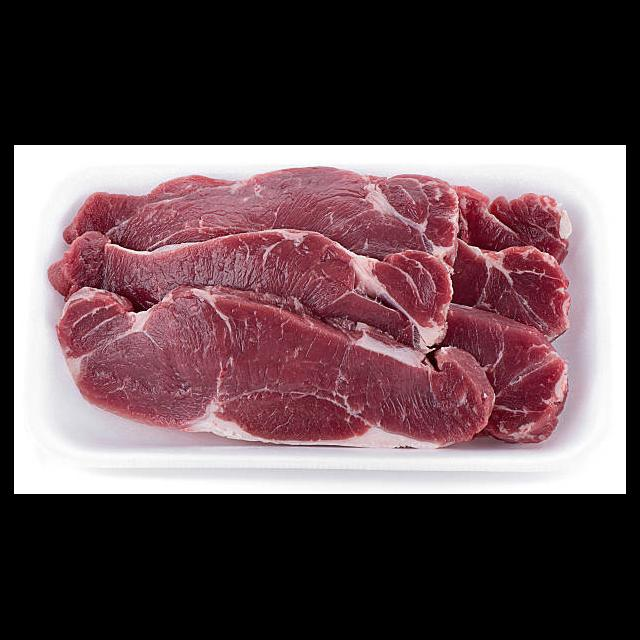beef: (48, 165, 574, 452)
